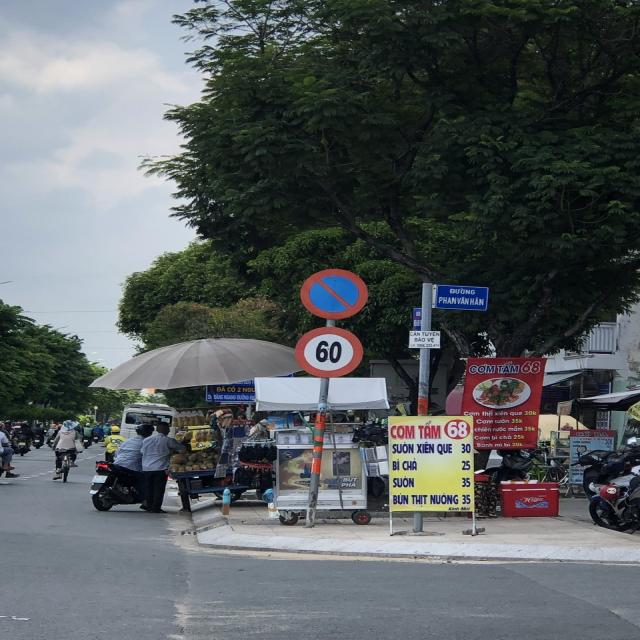Bien bao cam do xe: (294, 262, 373, 320)
Bien bao toc do toi da cho phep: (294, 324, 367, 379)
